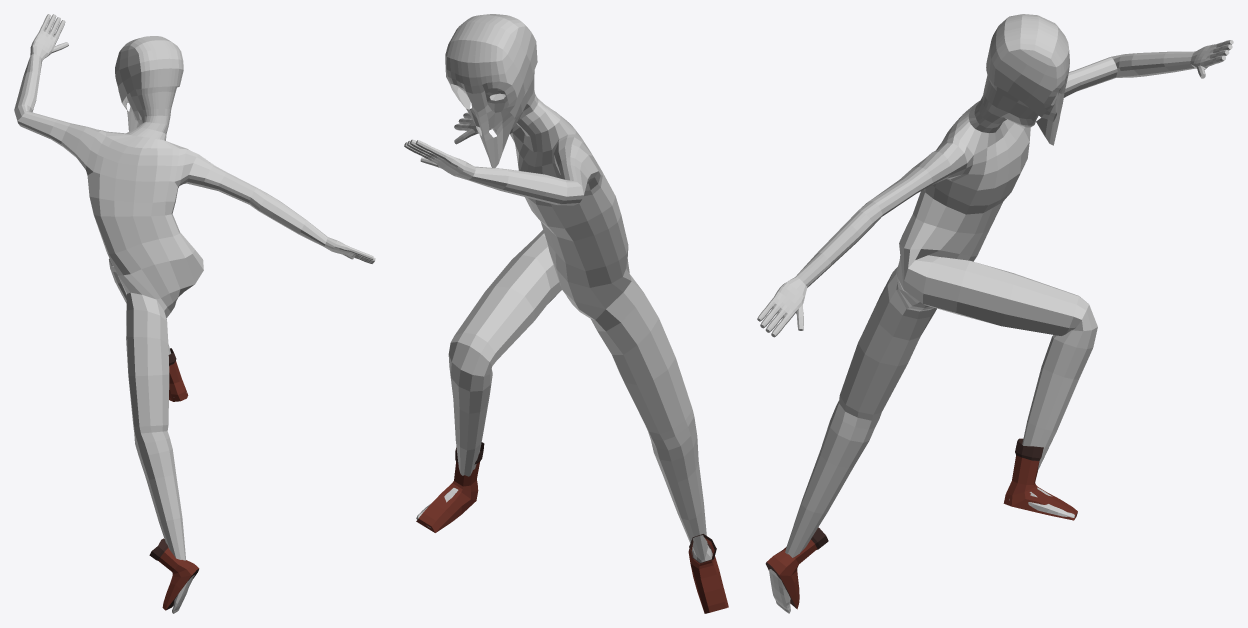
Rendered from saltoadelante_000108.obj.
3 views of the same model, side by side, from view 1: azimuth 30°, elevation 25°; view 2: azimuth 150°, elevation 25°; view 3: azimuth 270°, elevation 25° (orthographic). The views are drawn at different scales.
Parts seen in each view (by area): view 1: Plane.002_Plane.001, Plane.004, Plane.003; view 2: Plane.002_Plane.001, Plane.003, Plane.004; view 3: Plane.002_Plane.001, Plane.003, Plane.004.
Boxes of the visible parts, x1,y1,x2,y2 form: Plane.002_Plane.001: [14, 14, 375, 613]; Plane.004: [149, 538, 199, 610]; Plane.003: [168, 348, 188, 401]; Plane.002_Plane.001: [404, 14, 712, 562]; Plane.003: [416, 442, 484, 532]; Plane.004: [688, 534, 728, 613]; Plane.002_Plane.001: [757, 14, 1233, 613]; Plane.003: [1003, 438, 1077, 520]; Plane.004: [765, 527, 828, 609].
Size of the model in its own units: 3.41 by 7.06 by 4.8.
